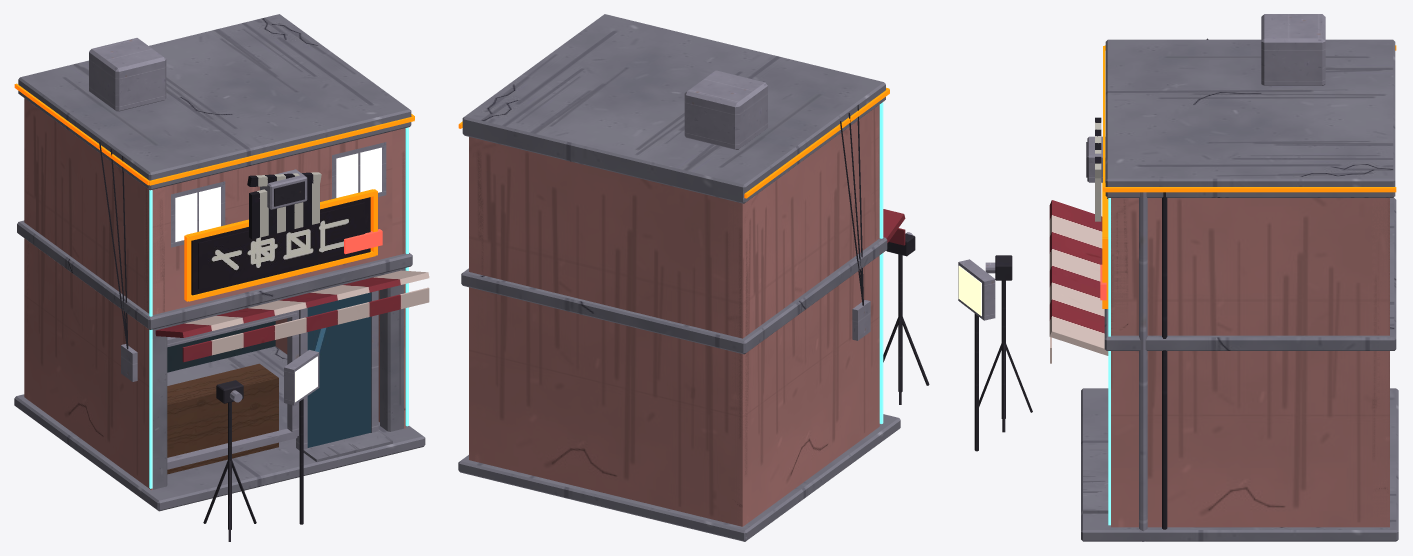
The model's file is servico_editor-de-video.glb.
The picture shows the model from 3 angles, left to right: view 1: azimuth 30°, elevation 25°; view 2: azimuth 150°, elevation 25°; view 3: azimuth 270°, elevation 25°; orthographic projection. The views are drawn at different scales.
Parts seen in each view (by area): view 1: servico_editor-de-video; view 2: servico_editor-de-video; view 3: servico_editor-de-video.
Part boxes in pixels (x1,y1,x2,y2): servico_editor-de-video: (14, 14, 429, 541); servico_editor-de-video: (458, 14, 929, 541); servico_editor-de-video: (958, 14, 1398, 541).
Bounding box in the file's own units: 3.18 × 4.21 × 4.1.
Materials: 6 (2 with a texture image).
